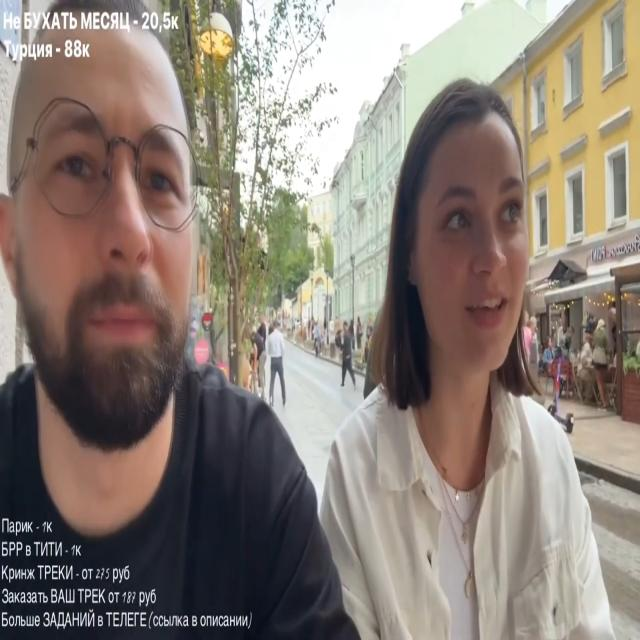Person: (0, 17, 355, 635), (303, 83, 627, 637), (261, 321, 288, 406), (337, 324, 358, 389), (312, 324, 323, 356)
